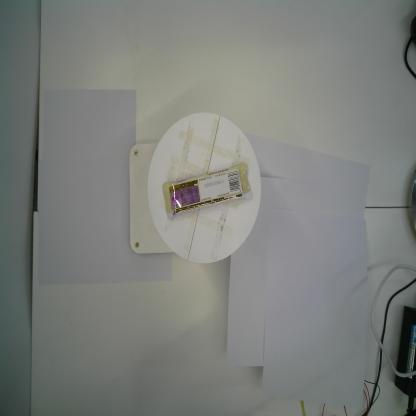Chocolate: (162, 162, 252, 219)
